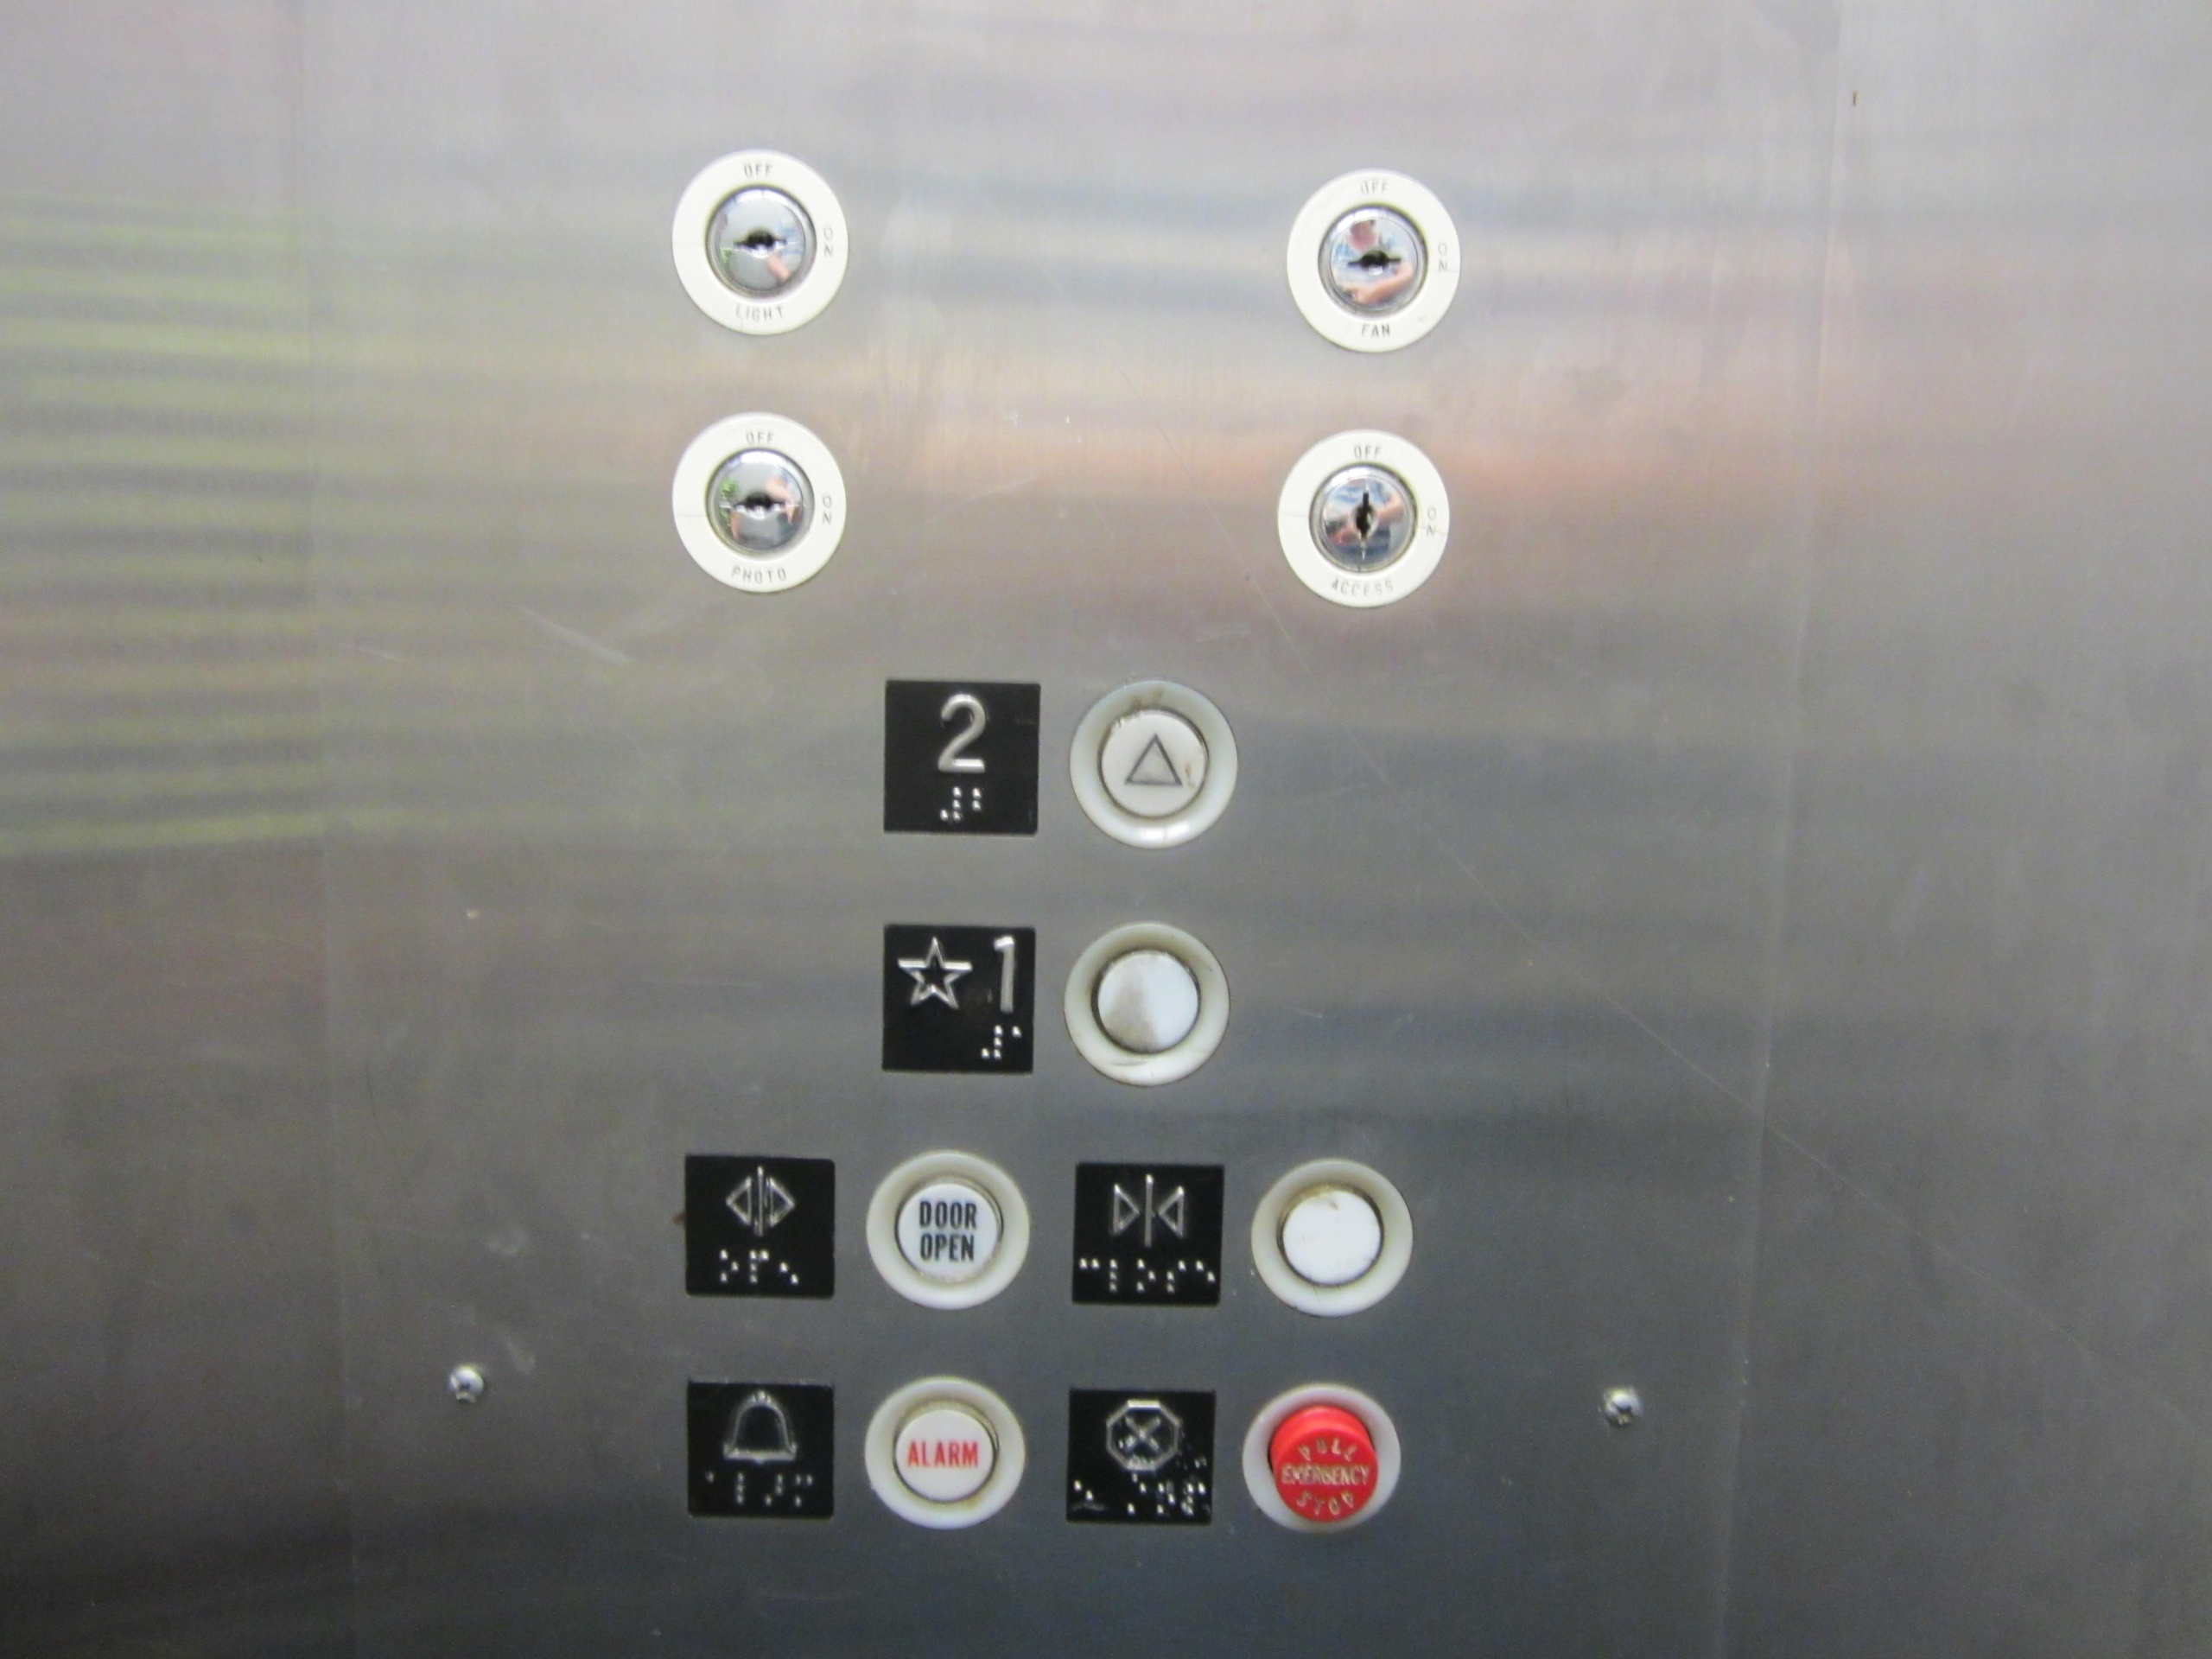2: (881, 674, 1047, 838)
alarm: (676, 1370, 843, 1530)
close: (1061, 1147, 1237, 1316)
empty: (1059, 917, 1237, 1089), (1252, 1147, 1420, 1324)
keyhole: (1275, 152, 1470, 364), (657, 139, 860, 338), (660, 408, 857, 598), (1270, 425, 1461, 615)
open: (676, 1147, 843, 1307)
s1: (878, 918, 1040, 1080)
stop: (1059, 1378, 1228, 1537)
text_alarm: (853, 1373, 1033, 1539)
text_door open: (857, 1147, 1038, 1316)
text_emergency: (1237, 1378, 1414, 1537)
up: (1059, 673, 1249, 850)
